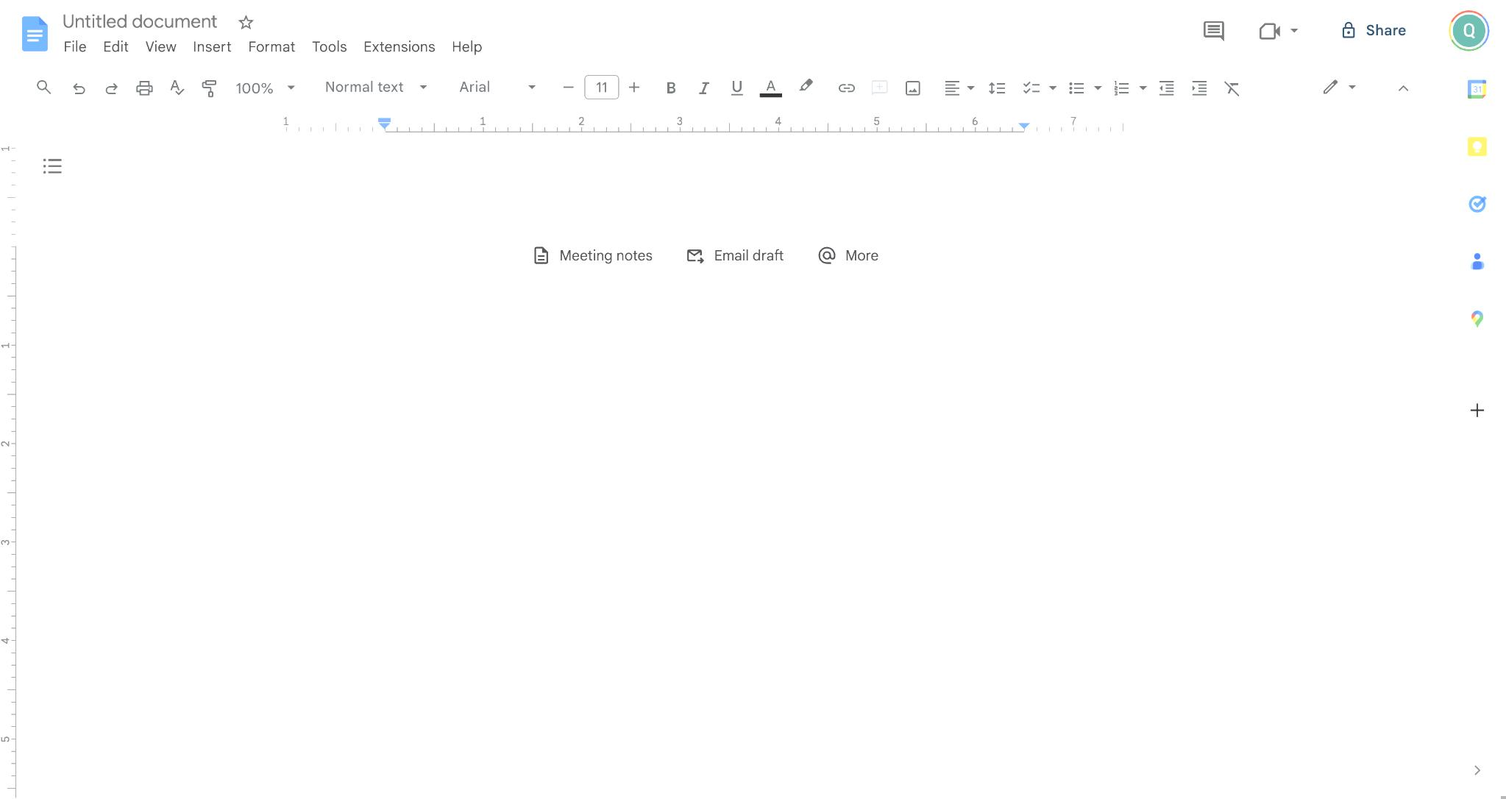webelement: (0, 0, 1505, 116), (54, 7, 1505, 39), (1449, 60, 1506, 798), (60, 77, 1248, 93), (54, 26, 490, 60), (1306, 66, 1419, 106), (1322, 9, 1432, 50), (54, 7, 228, 31), (1449, 174, 1506, 232), (1449, 289, 1506, 347), (1449, 380, 1506, 438), (1449, 60, 1506, 117), (1449, 117, 1506, 174), (1449, 232, 1506, 289), (1449, 741, 1506, 798), (447, 71, 546, 101), (1244, 9, 1313, 50), (7, 7, 60, 60), (324, 72, 406, 100), (355, 34, 443, 58), (1307, 71, 1373, 101), (1193, 8, 1236, 51), (1448, 9, 1489, 50), (239, 34, 302, 58), (230, 73, 279, 102), (184, 34, 239, 58), (25, 72, 70, 100), (303, 34, 354, 58), (939, 71, 978, 101), (136, 34, 183, 58), (443, 34, 490, 58), (95, 34, 136, 58), (54, 34, 94, 58), (754, 71, 786, 101), (789, 71, 821, 101), (897, 71, 929, 101), (981, 71, 1013, 101), (128, 71, 159, 101), (161, 71, 192, 101), (721, 71, 752, 101), (1216, 71, 1247, 101), (63, 71, 93, 101), (96, 71, 126, 101), (194, 71, 224, 101), (656, 71, 686, 101), (688, 71, 718, 101), (831, 71, 861, 101), (864, 71, 894, 101), (1016, 71, 1046, 101), (1061, 71, 1091, 101), (1106, 71, 1136, 101), (1151, 71, 1181, 101), (1184, 71, 1214, 101), (1388, 71, 1418, 101), (1349, 77, 1396, 95), (231, 7, 259, 36), (585, 74, 617, 98), (556, 74, 580, 98), (622, 74, 646, 98), (1339, 20, 1358, 39), (1046, 71, 1058, 101), (1092, 71, 1104, 101), (1467, 363, 1487, 380), (1137, 71, 1148, 101)
